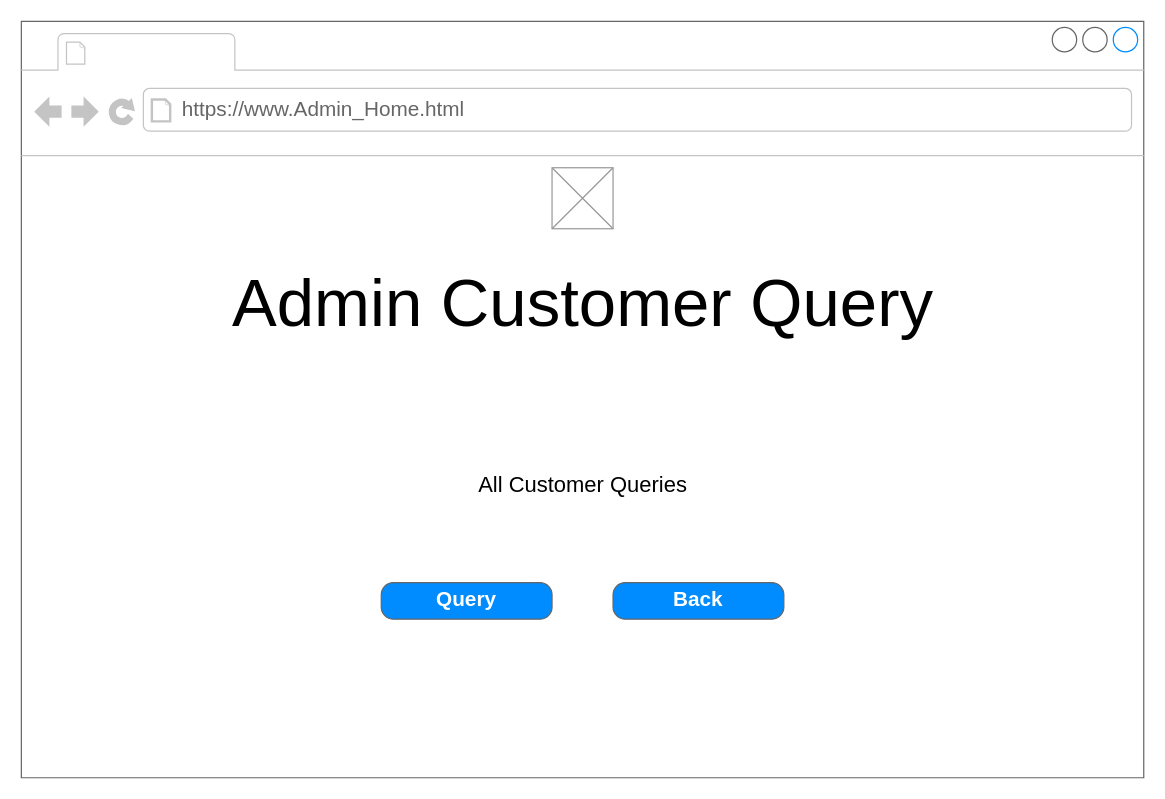
Some shapes in this 1165 by 799 pixel diagram are drawn without their labels. The shapes that lost their labels are listed below. From the top down, each one's centre as x and y in pixels, then its label:
At point 161,51: "Page 1".
At point 582,198: "Logo".
